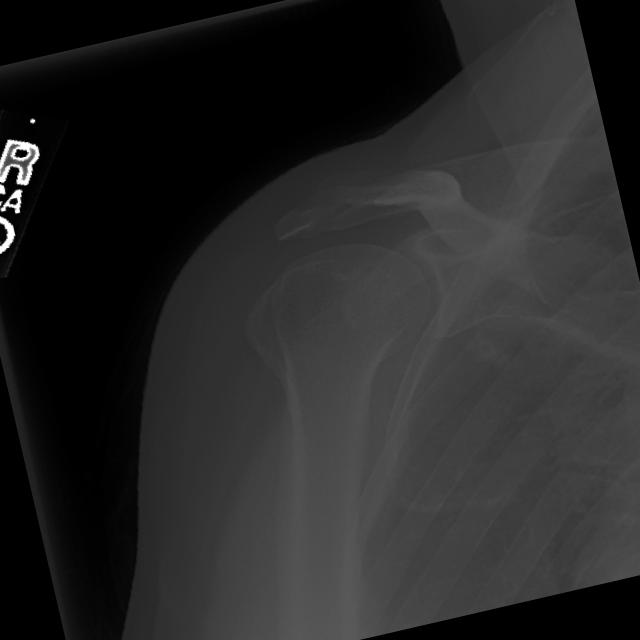shoulder fracture: (290, 173, 410, 253)
